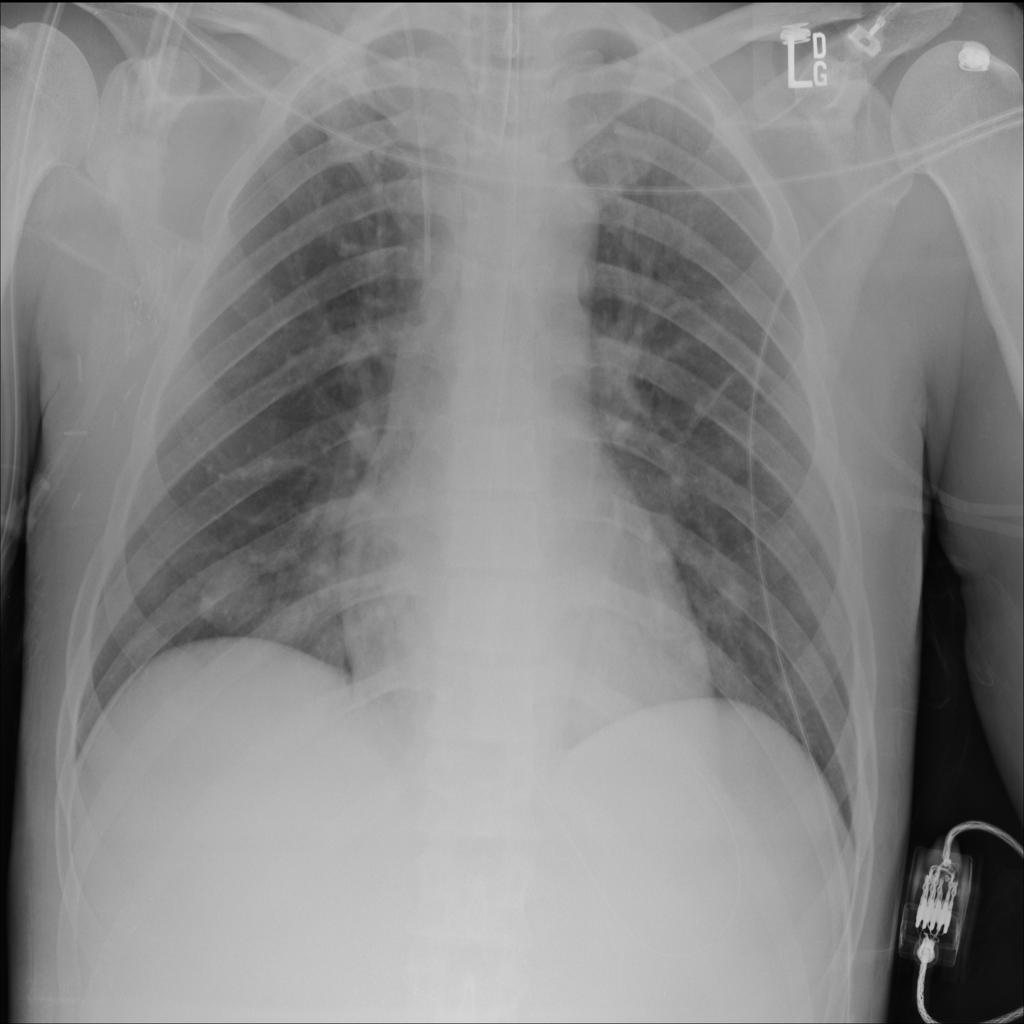nodule: (182, 539, 287, 653), (693, 558, 764, 633)
